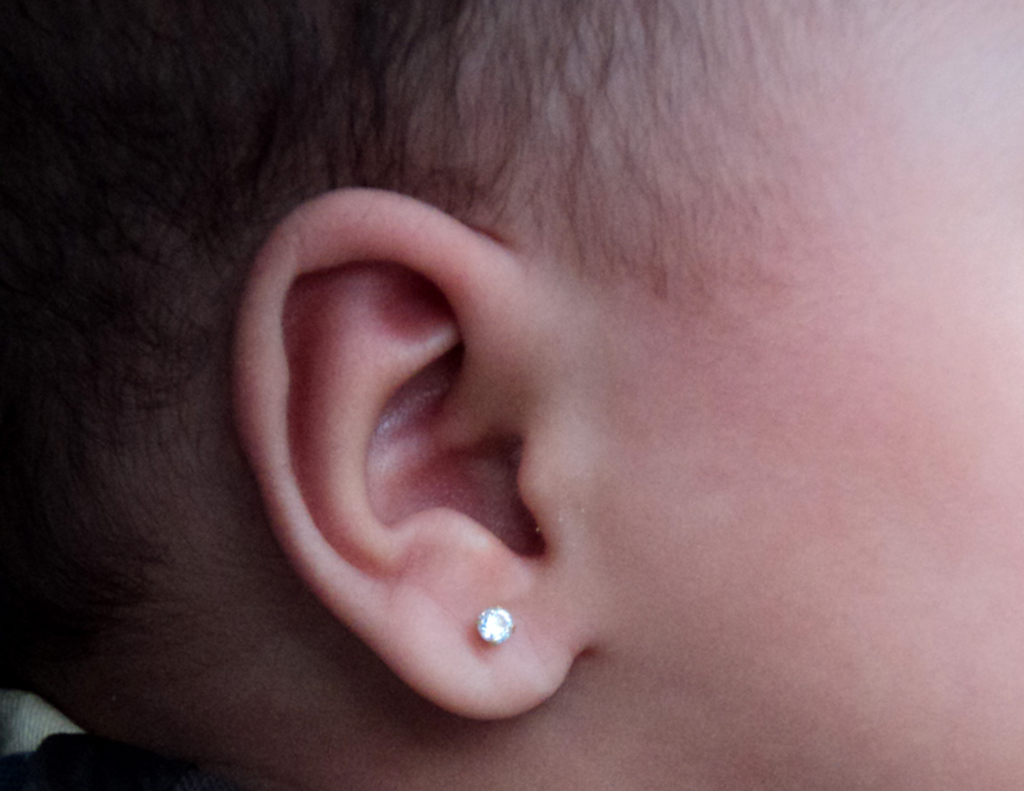Person: (0, 0, 1023, 790)
